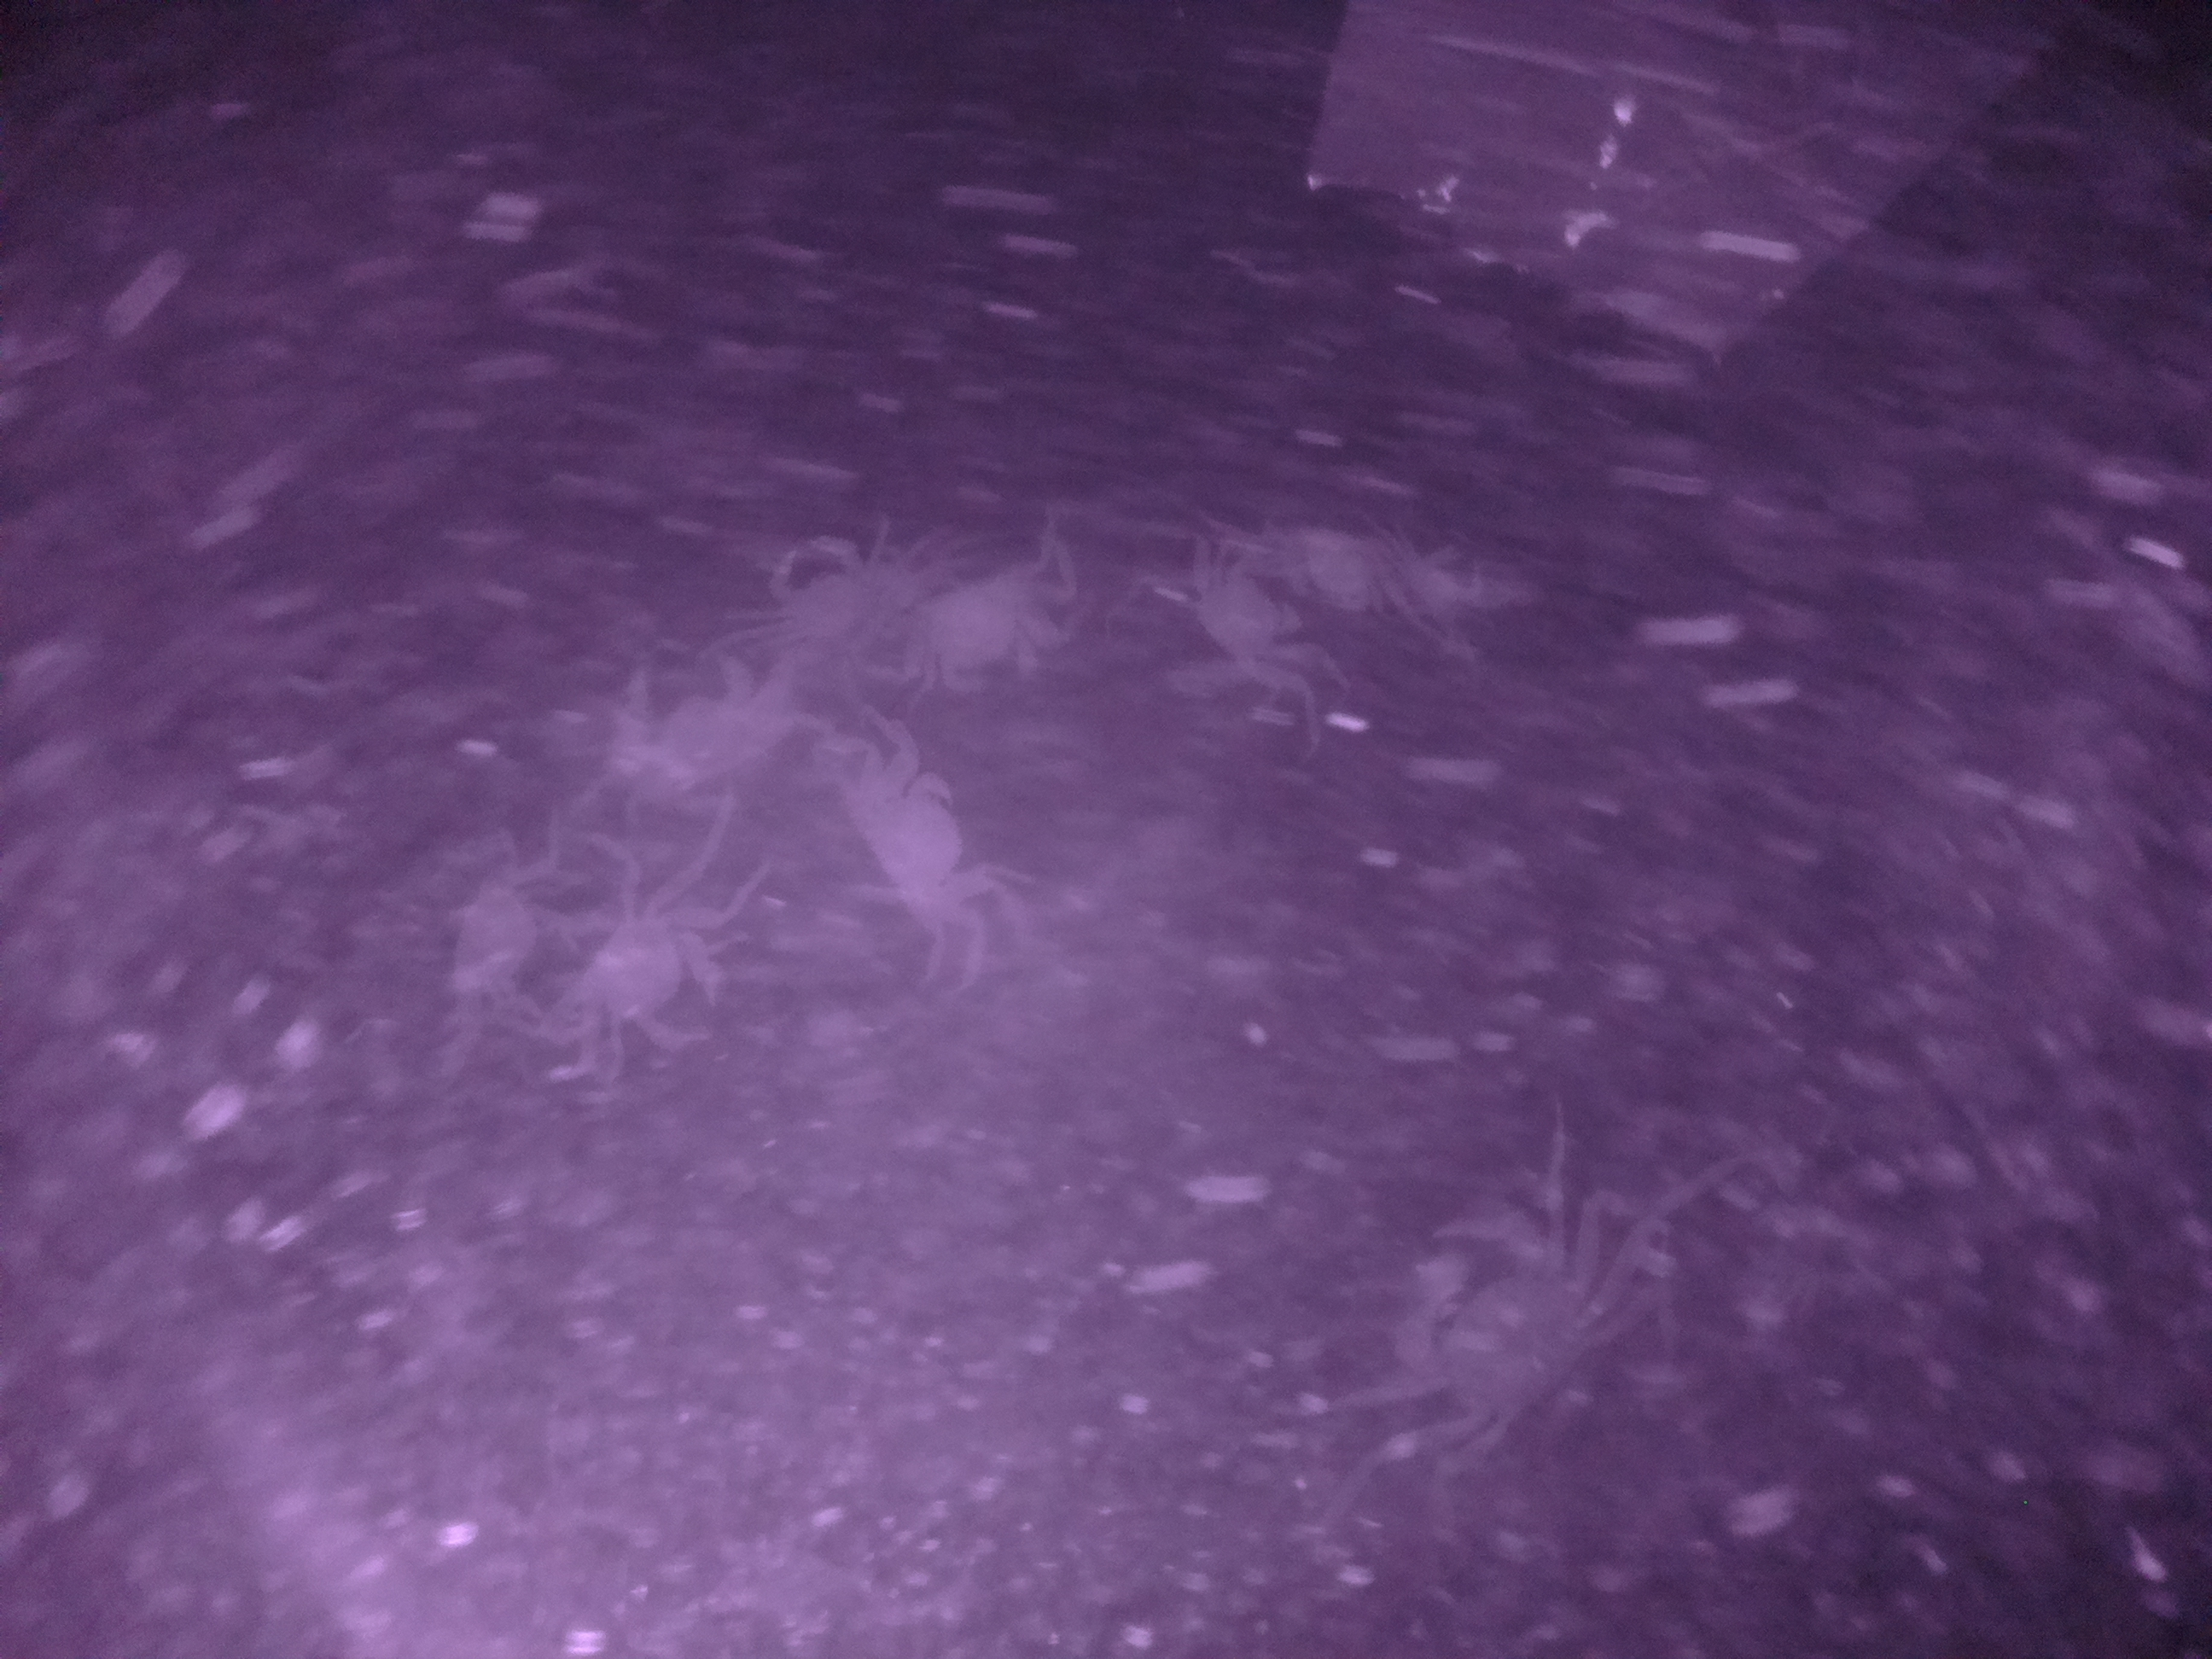Crab: (1393, 1166, 1648, 1495), (564, 864, 733, 1080), (1181, 533, 1317, 706)
